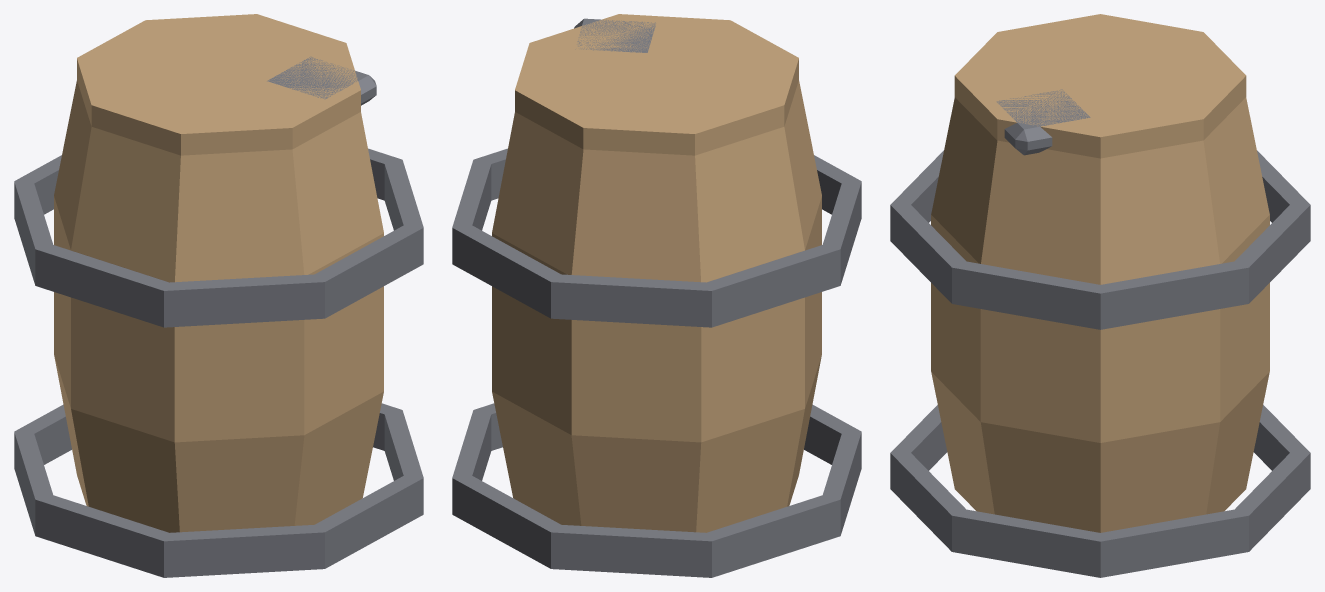
The model's file is town_barrel.glb.
3 renders of one model, left to right at view 1: azimuth 30°, elevation 25°; view 2: azimuth 150°, elevation 25°; view 3: azimuth 270°, elevation 25°, orthographic.
Parts seen in each view (by area): view 1: town_barrel_0, town_barrel_1; view 2: town_barrel_0, town_barrel_1; view 3: town_barrel_0, town_barrel_1.
Part boxes in pixels (<box>): town_barrel_0: <box>54,14,383,532</box>; town_barrel_1: <box>14,56,423,577</box>; town_barrel_0: <box>492,14,821,532</box>; town_barrel_1: <box>452,18,861,577</box>; town_barrel_0: <box>931,14,1269,532</box>; town_barrel_1: <box>890,89,1310,577</box>.
Bounding box in the file's own units: 1.84 × 2 × 1.84.
